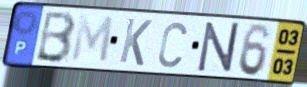6: (236, 21, 274, 78)
B: (33, 9, 78, 65)
C: (156, 20, 189, 70)
K: (117, 16, 154, 68)
M: (69, 13, 116, 66)
N: (196, 21, 241, 74)
